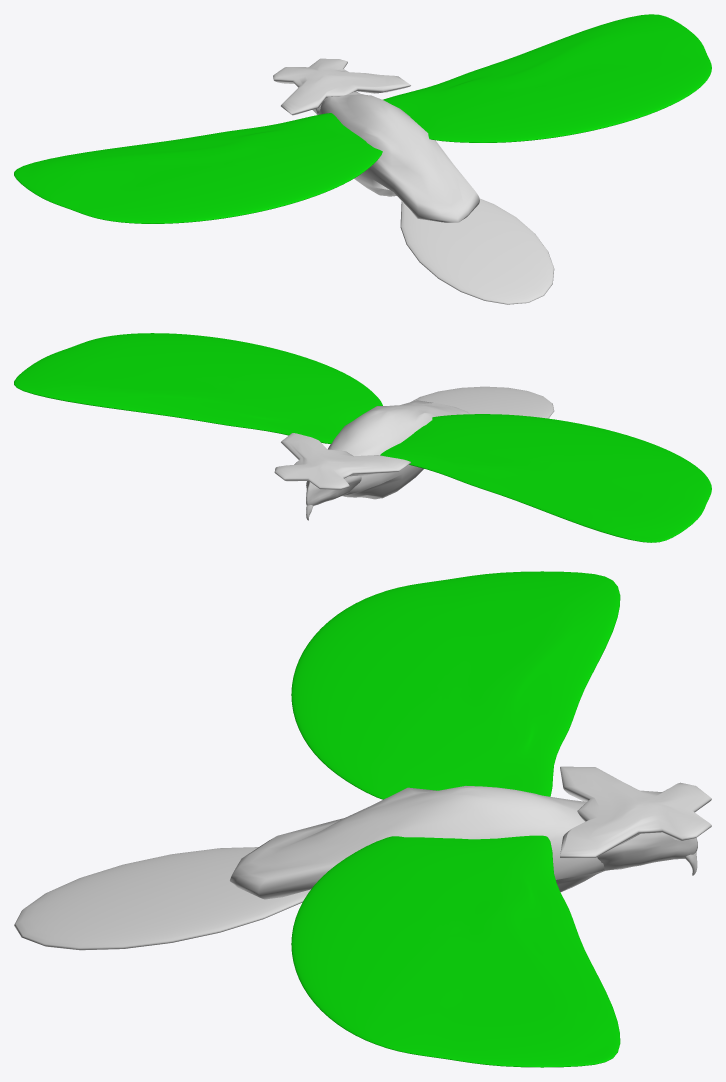
The model's file is PhilippineEagleAnim.fbx.
3 views of the same model, one above another, from view 1: azimuth 30°, elevation 25°; view 2: azimuth 150°, elevation 25°; view 3: azimuth 270°, elevation 25° (orthographic). The views are drawn at different scales.
Parts seen in each view (by area): view 1: Wing, Wings3, Feathers, Body, Hair; view 2: Wing, Wings3, Body, Hair, Feathers, Head; view 3: Wings3, Wing, Feathers, Body, Hair, Head.
Part boxes in pixels (box(x1,y1,x2,y2)): Wing: box(14, 113, 382, 223); Wings3: box(383, 14, 711, 142); Feathers: box(400, 198, 554, 304); Body: box(318, 91, 479, 222); Hair: box(273, 58, 410, 115); Wing: box(380, 414, 711, 542); Wings3: box(14, 333, 382, 443); Body: box(328, 400, 469, 499); Hair: box(274, 433, 410, 489); Feathers: box(411, 386, 554, 418); Head: box(306, 475, 361, 505); Wings3: box(291, 835, 620, 1067); Wing: box(291, 571, 620, 799); Feathers: box(14, 847, 310, 950); Body: box(230, 786, 604, 899); Hair: box(560, 766, 711, 858); Head: box(597, 832, 697, 870).
Bounding box in the file's own units: 24.52 × 3.12 × 14.6.
